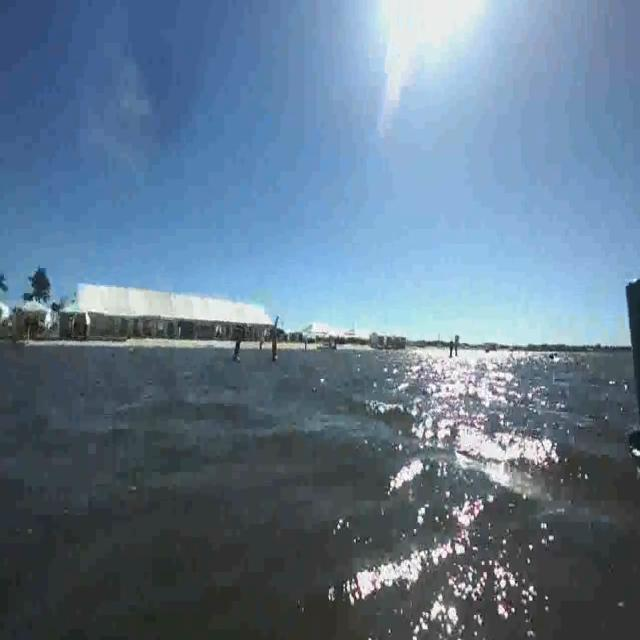green-column-buoy: (621, 276, 640, 452)
